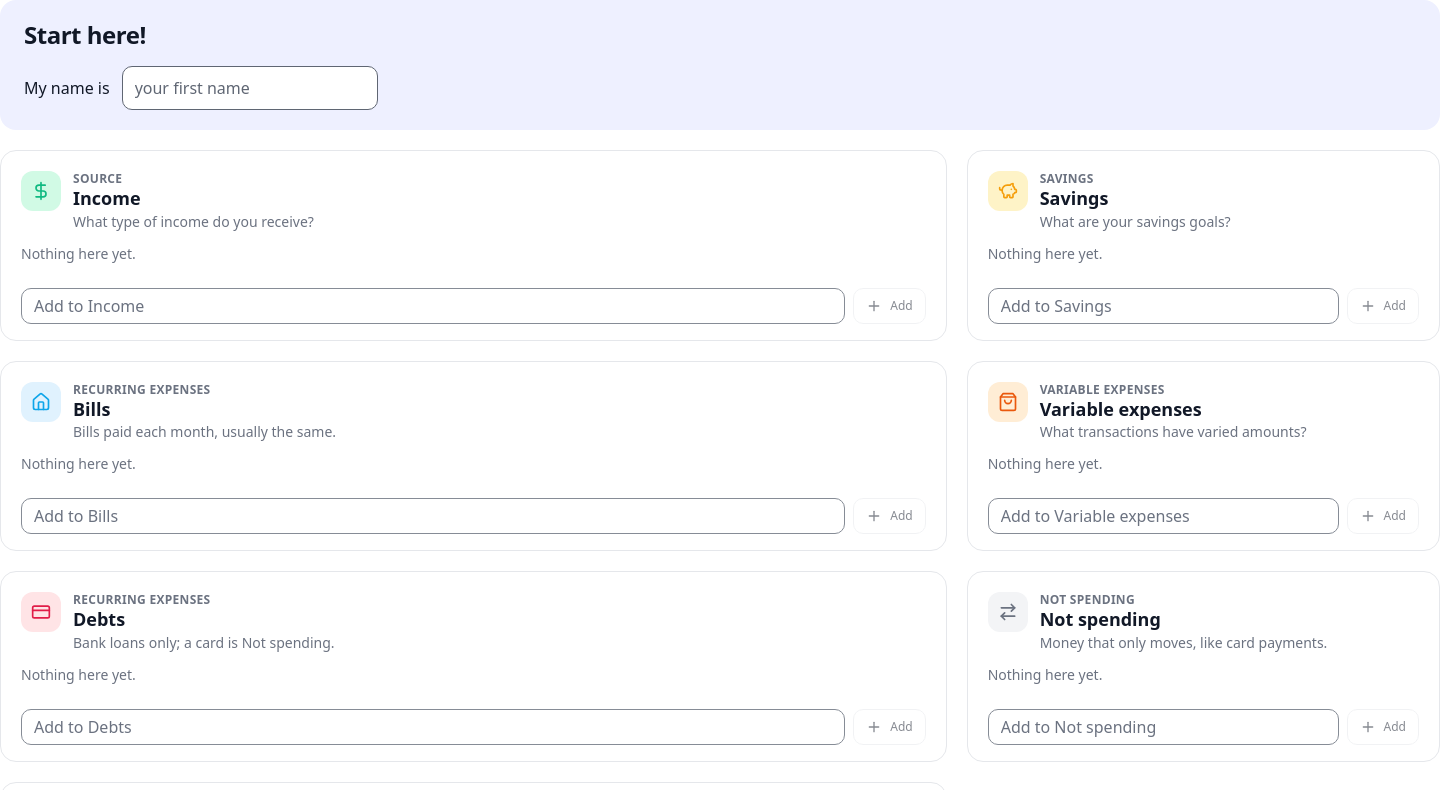
Scenario: adding to a list, then typing the next name before the save is back › keeps the name typed while the first add was being saved
In the field named "New Bills category": (433, 516) [21,498,845,534], type "Rent"
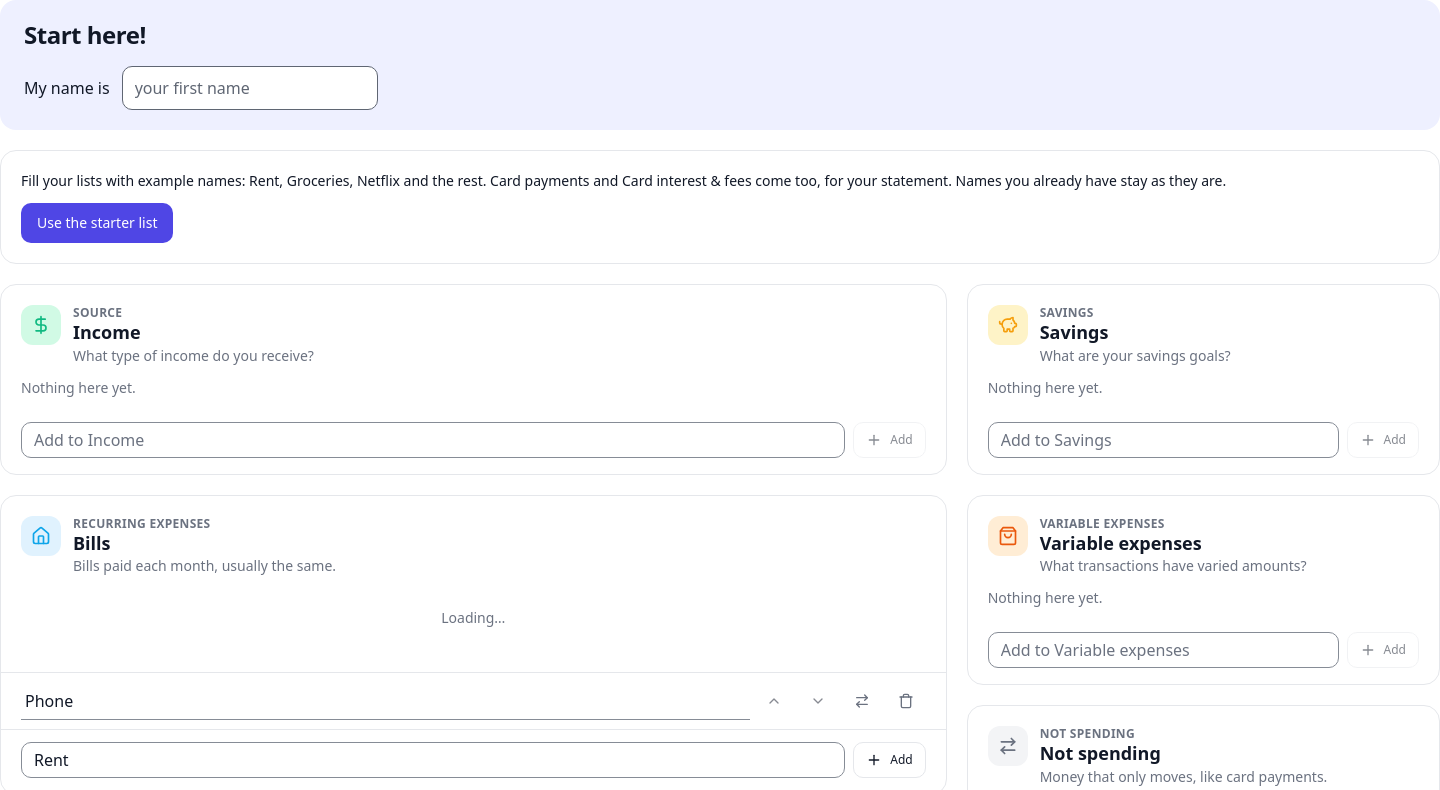
Submit the form named "New Bills category", box [1,742,946,778]
(page scrolled)
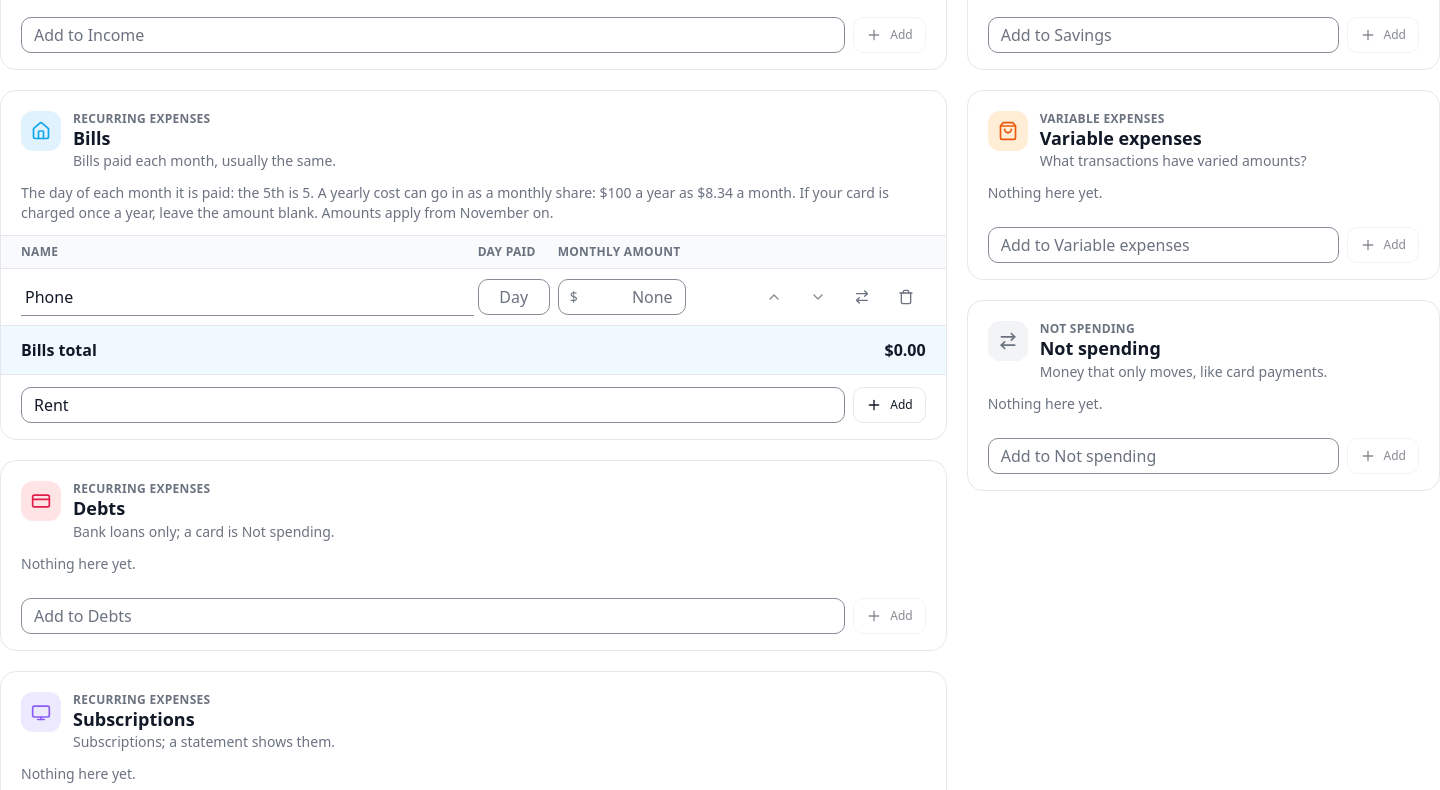
Replace the text in the field named "New Bills category" with "Hydro": (433, 405) [21,387,845,423]
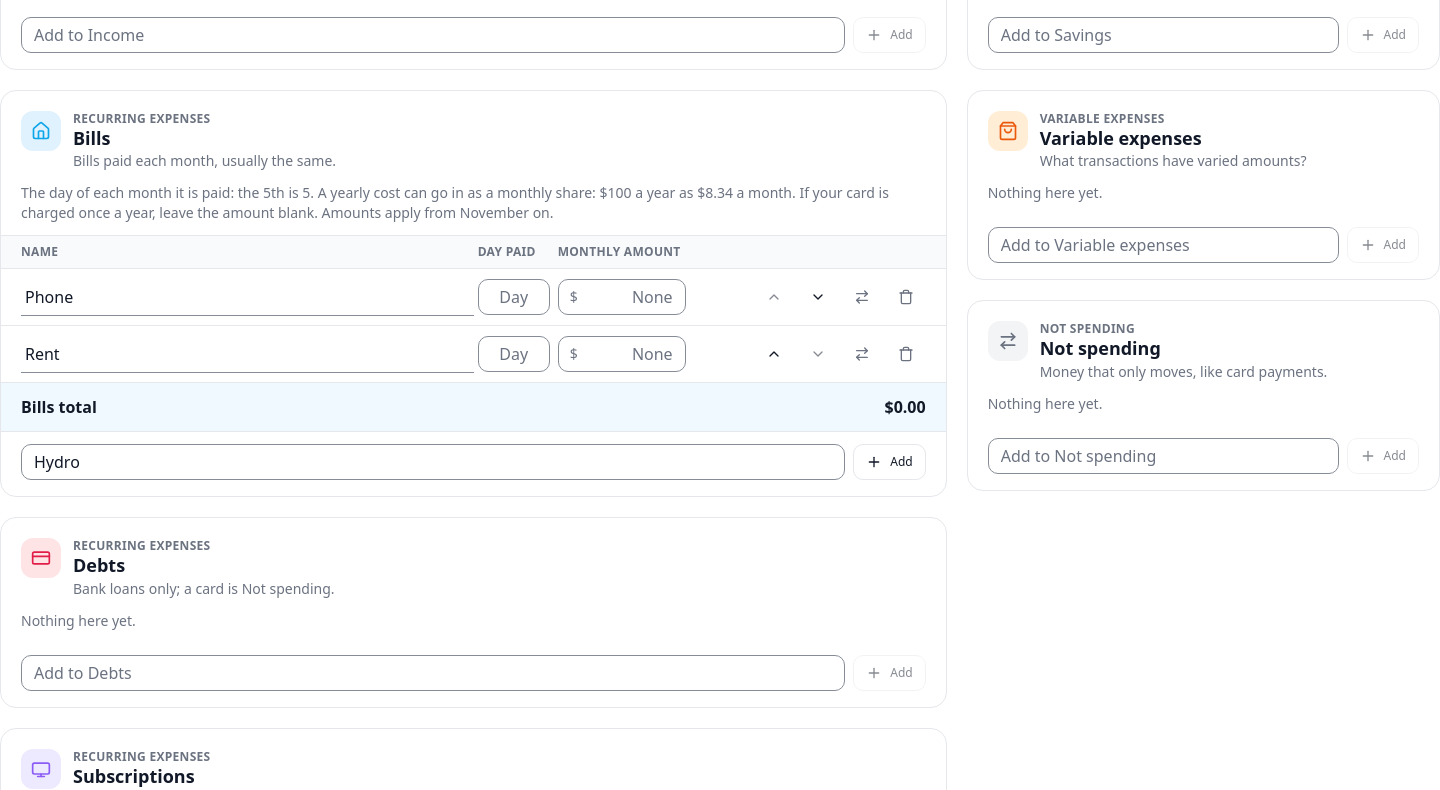
Now the field named "Rename Rent" is shown, box [21,336,474,372]
